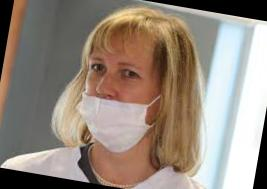mask_weared_incorrect: (77, 54, 153, 149)
